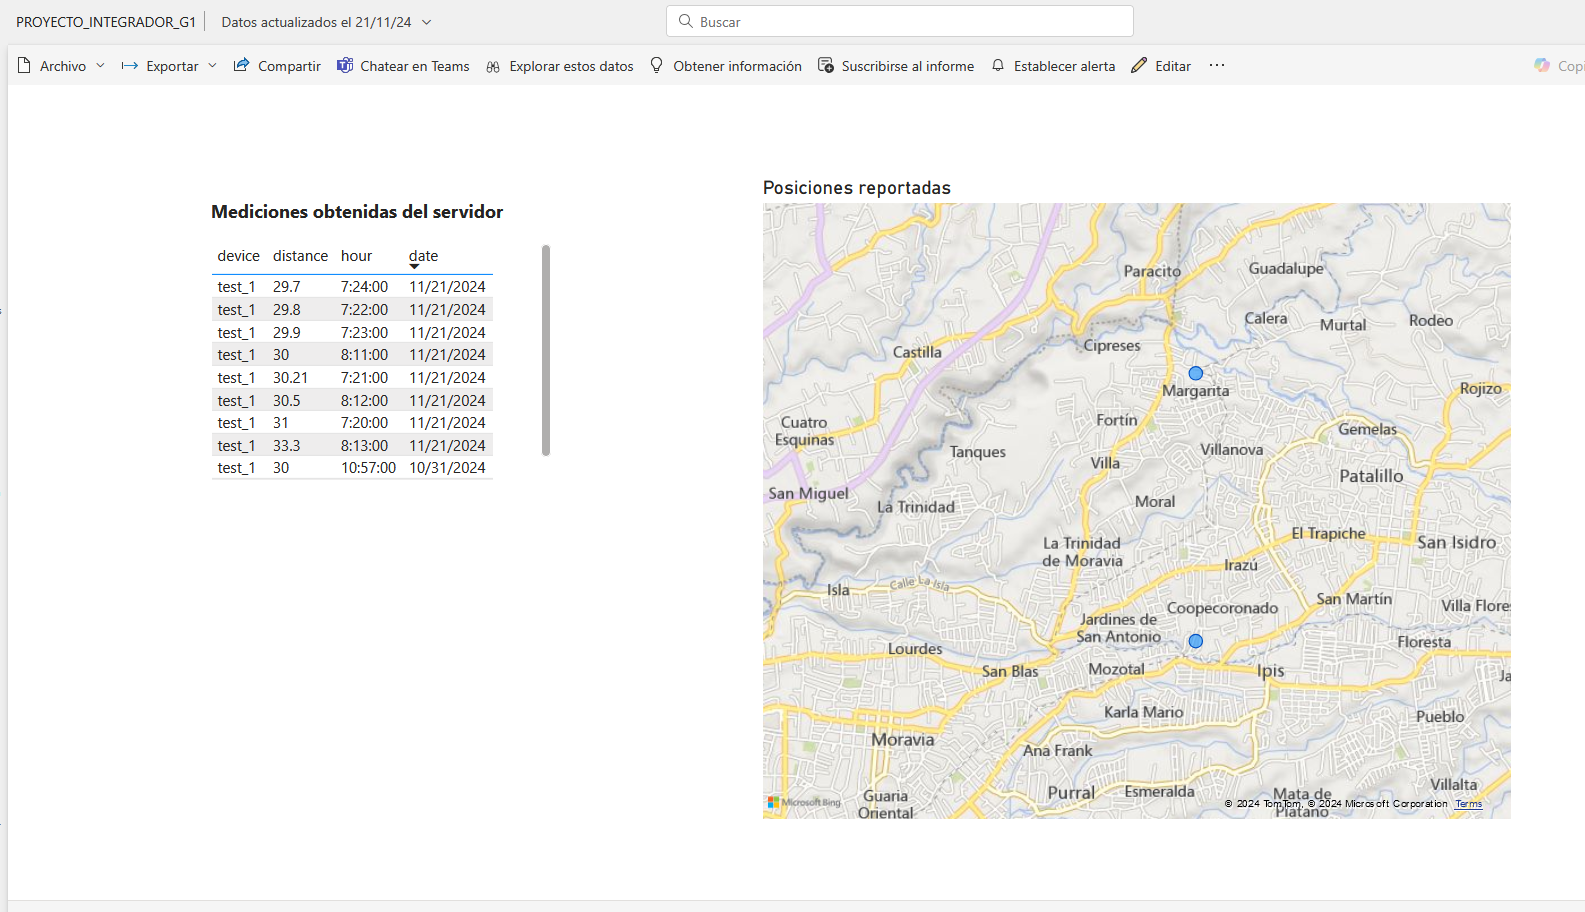

What the dashboard file says about the page in this screenshot:
{"tool":"powerbi","page":{"name":"Page 1","canvas":[1280,720],"ordinal":0},"visuals":[{"type":"tableEx","fields":{"Values":["send_all.device","send_all.distance","send_all.hour","send_all.date"]},"box":[84.8,134.7,311.3,218.4],"z":0},{"type":"map","title":"Posiciones reportadas","fields":{"Y":["send_all.position.1"],"X":["send_all.position.2"]},"box":[572.7,80.8,671.4,572.7],"z":1},{"type":"textbox","box":[84.8,95.2,311.3,39.5],"z":2}]}

Visuals, with their boxes on the page's 1280x720 design canvas (x1, y1, x2, y2). These are canvas units, not pixel positions in the 1585x912 screenshot, which may show the page scaled, cropped or inside an application window:
tableEx - send_all.device x send_all.distance: x1=85 y1=135 x2=396 y2=353
"Posiciones reportadas" map: x1=573 y1=81 x2=1244 y2=654
textbox: x1=85 y1=95 x2=396 y2=135
